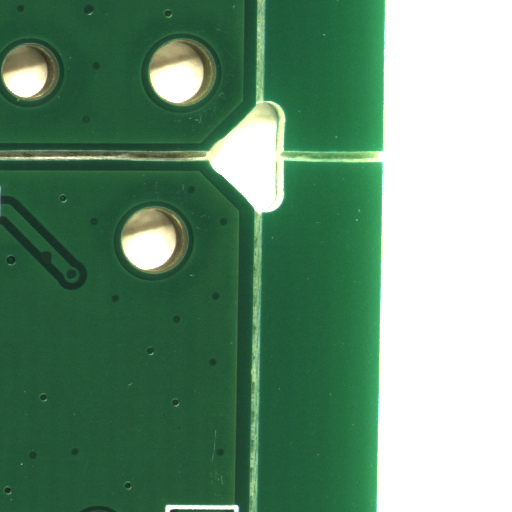Mouse_bite: (47, 257, 58, 269)
